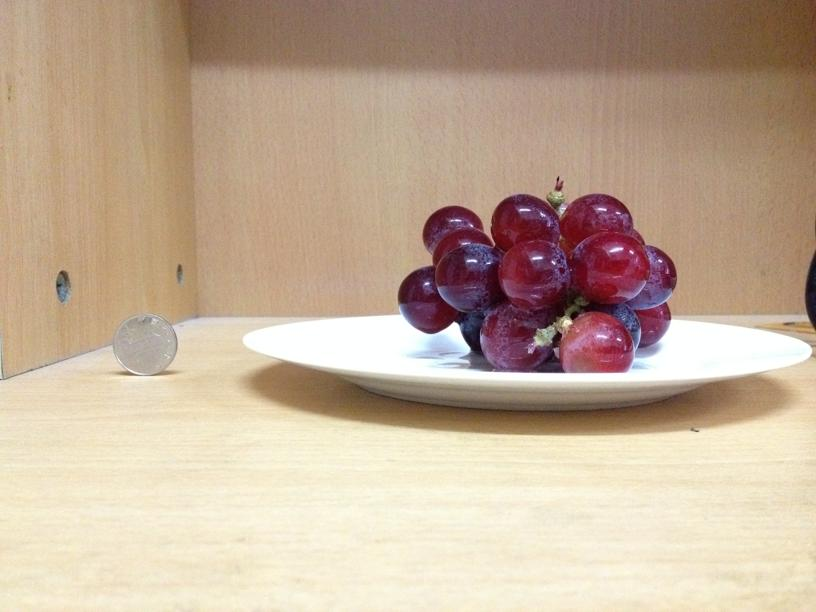coin: (112, 313, 177, 376)
grape: (404, 192, 674, 372)
